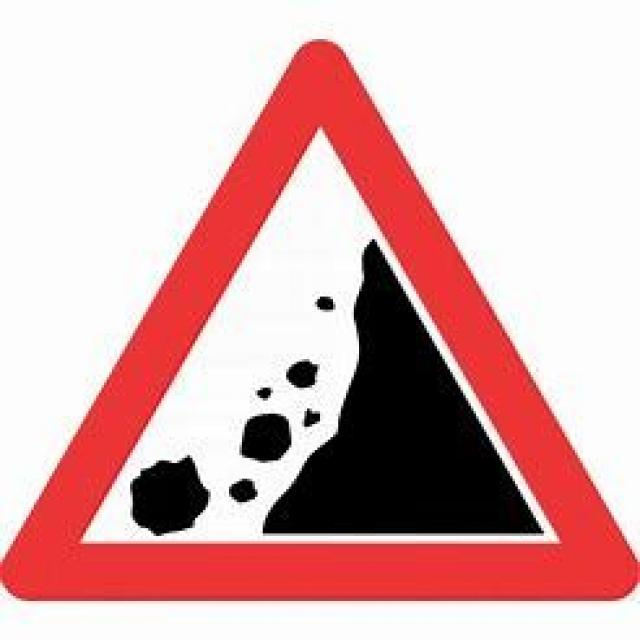FALLING_ROCKS: (0, 39, 637, 601)
